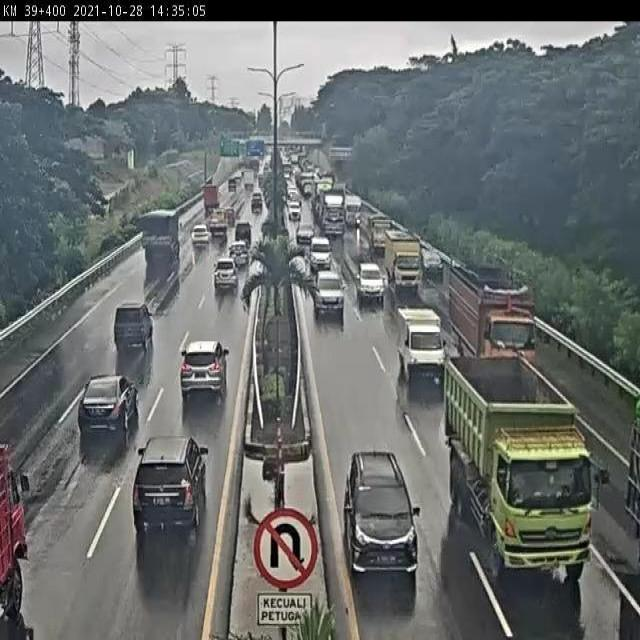big truck: (442, 355, 603, 593), (442, 256, 548, 373), (0, 429, 59, 636), (128, 207, 183, 281)
car: (125, 422, 219, 562), (341, 449, 425, 582), (64, 368, 148, 455), (165, 329, 233, 415), (390, 303, 454, 392), (89, 292, 163, 360), (312, 264, 347, 325), (353, 258, 384, 310), (203, 264, 239, 305), (422, 239, 444, 289), (305, 230, 334, 266), (223, 249, 248, 280), (191, 224, 212, 255), (229, 227, 252, 250)
small truck: (378, 229, 418, 295)
